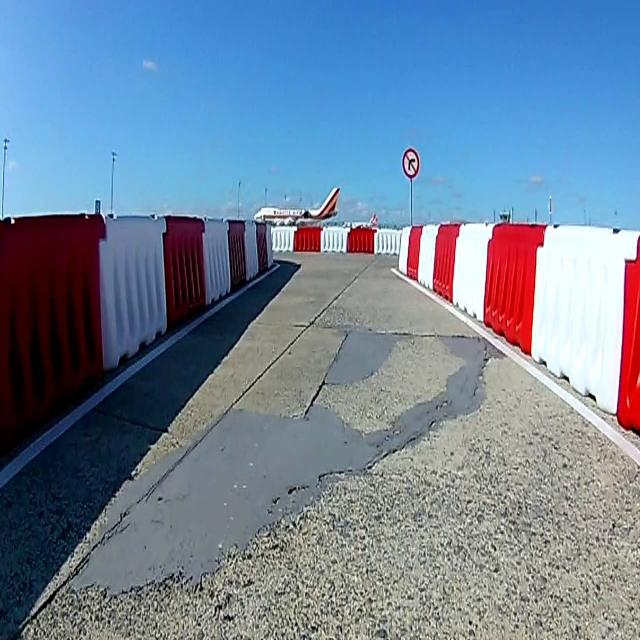sagadonulmez: (400, 146, 420, 178)
